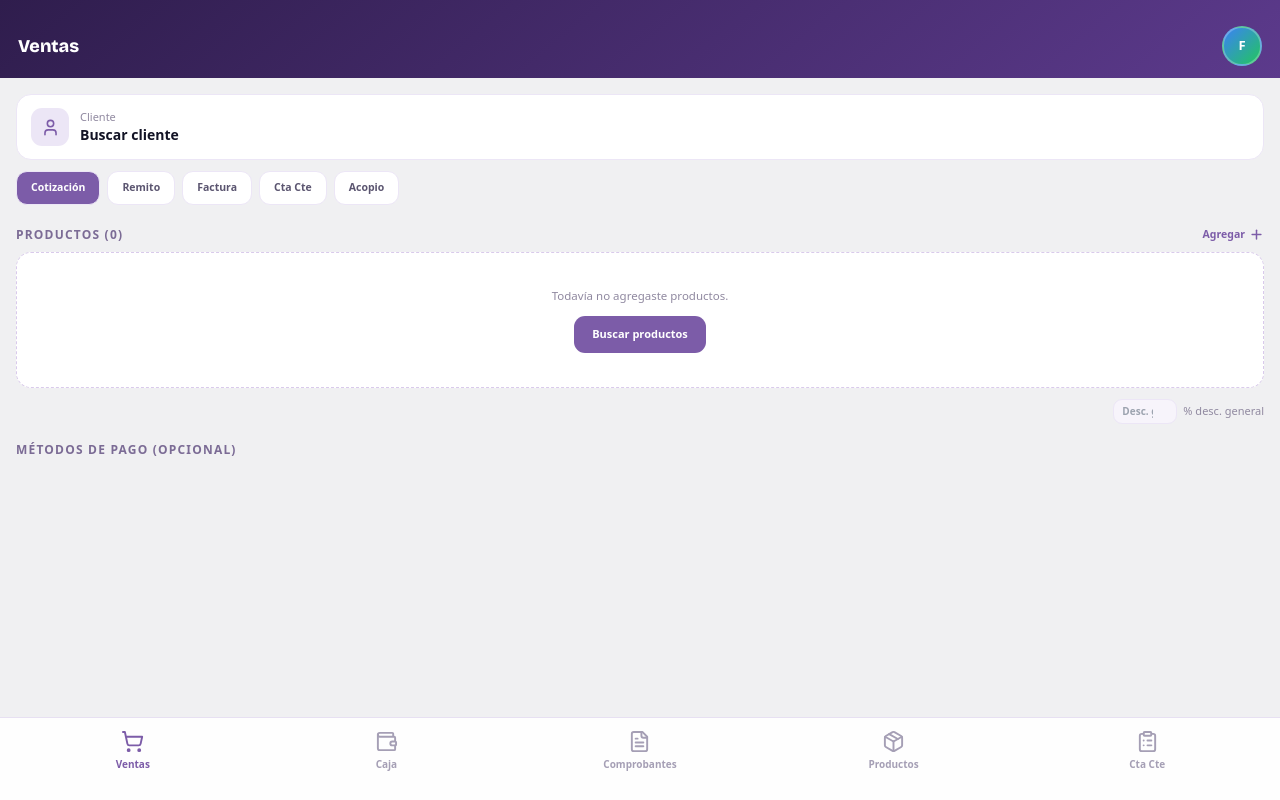
Test case: MobileShell — cart badge on Ventas tab › updates the badge count after adding a product from Productos
What coordinates should you click on to do the following:
click the button "Productos"
I would click on:
 (894, 751)
Its box is [767,726,1020,776].
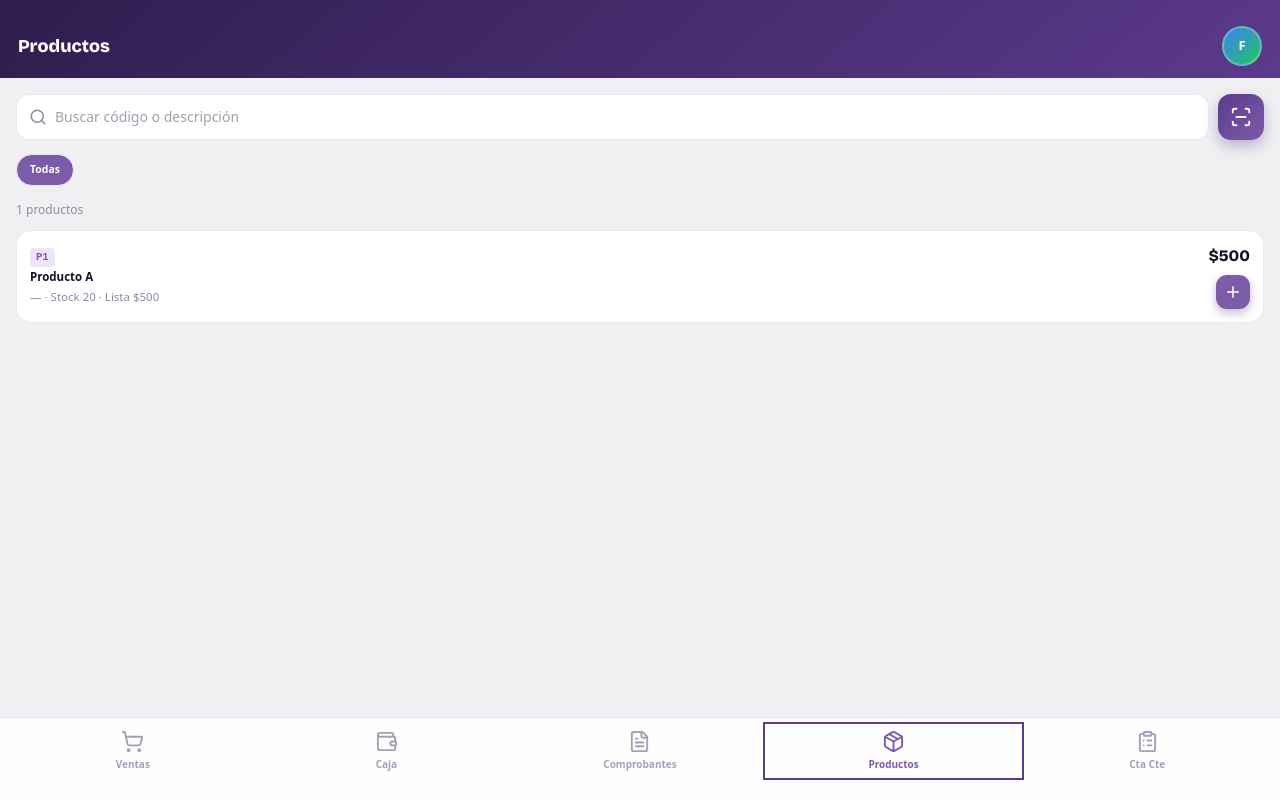
What coordinates should you click on to do the following:
click the button named "agregar producto a al carrito"
I would click on:
 (1233, 292)
Its box is [1216,275,1250,309].
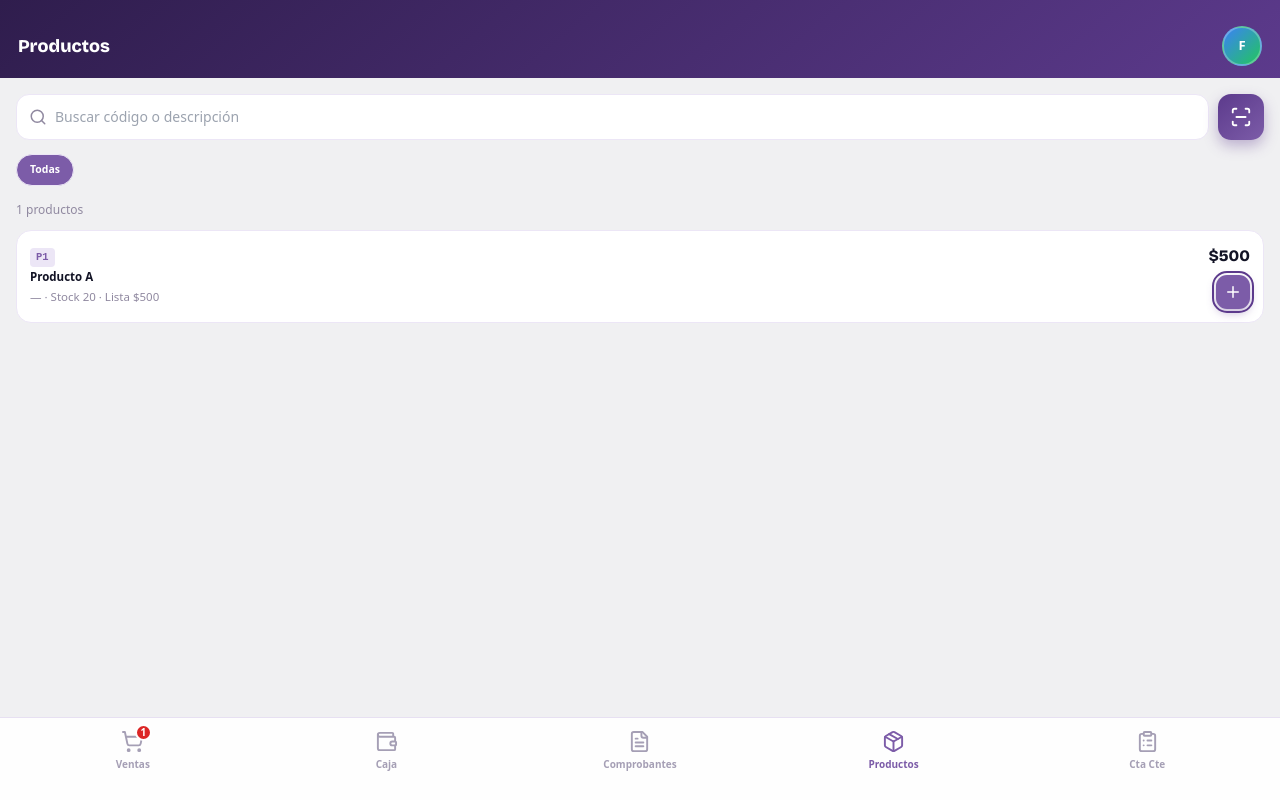
Result: the text with test id "cart-badge" reads "1" at [141,725,146,739]
